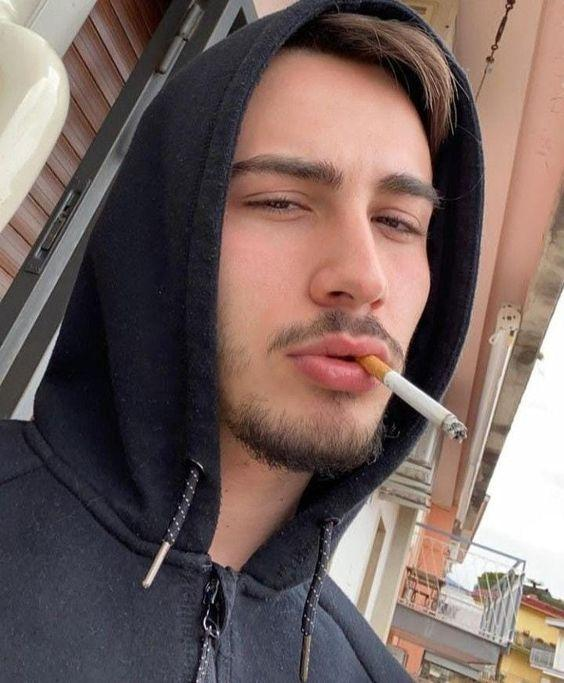cigarette: (355, 354, 468, 443)
